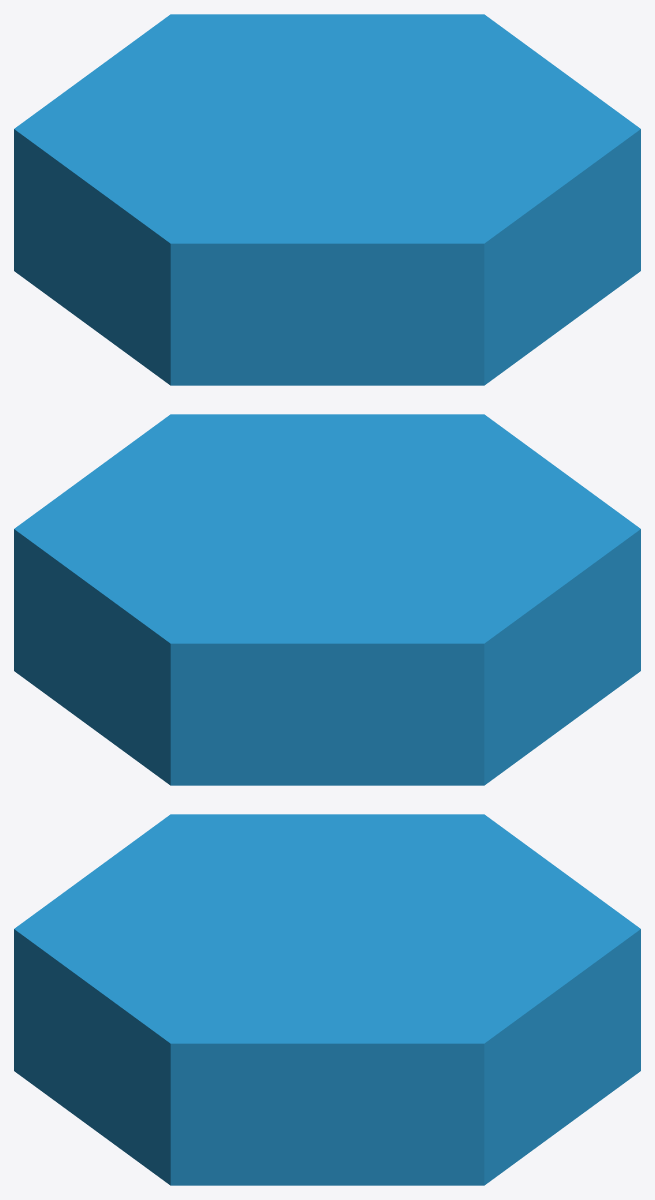
The model's file is shallow_water_wall.glb.
3 renders of one model, top to bottom at view 1: azimuth 30°, elevation 25°; view 2: azimuth 150°, elevation 25°; view 3: azimuth 270°, elevation 25°, orthographic.
Visible parts, largest first — view 1: WaterWallShort; view 2: WaterWallShort; view 3: WaterWallShort.
Boxes of the visible parts, bbox=[...] form: WaterWallShort: bbox=[14, 14, 640, 385]; WaterWallShort: bbox=[14, 414, 640, 785]; WaterWallShort: bbox=[14, 814, 640, 1185].
Bounding box in the file's own units: 1.73 × 0.5 × 2.
Materials: 1 (1 with a texture image).
